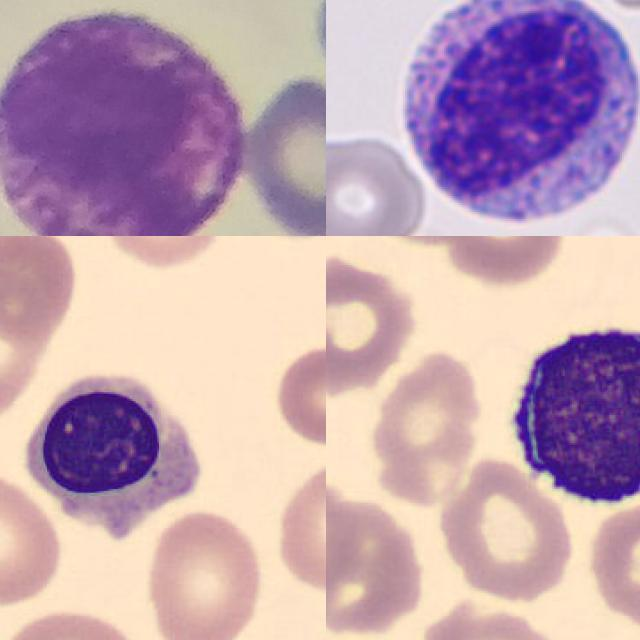Basophil: (0, 10, 250, 236)
Eosinophil: (404, 0, 640, 213)
Lymphocyte: (12, 362, 214, 546), (497, 309, 640, 513)
RBC: (435, 455, 577, 607), (368, 343, 487, 507), (141, 508, 265, 640), (326, 249, 419, 395), (326, 128, 430, 236), (0, 466, 66, 609), (584, 481, 640, 633), (271, 454, 326, 597), (436, 236, 570, 289), (417, 596, 568, 640), (271, 339, 326, 450), (0, 605, 154, 640), (98, 236, 226, 272)
